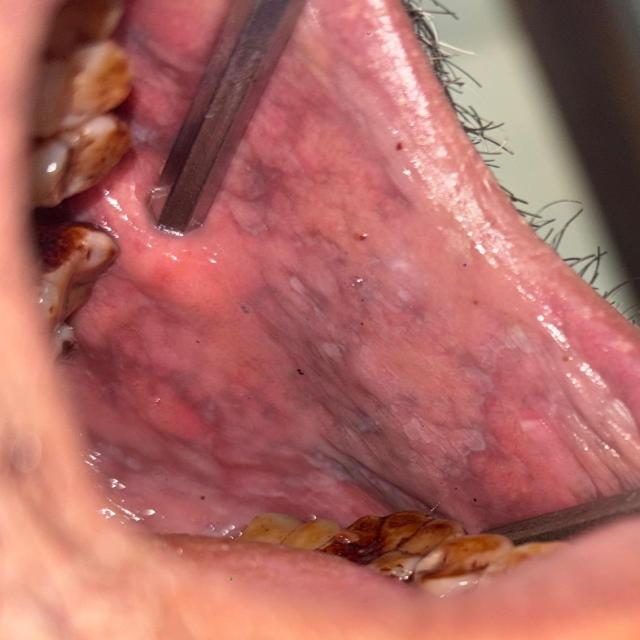leukoplakia-like-detection: (67, 246, 636, 536)
processing_area: (70, 3, 639, 539)
